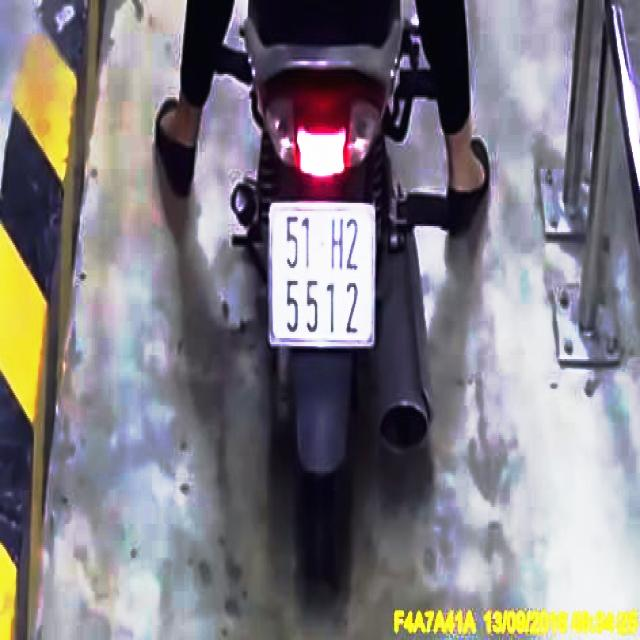license_plate: (269, 200, 377, 351)
